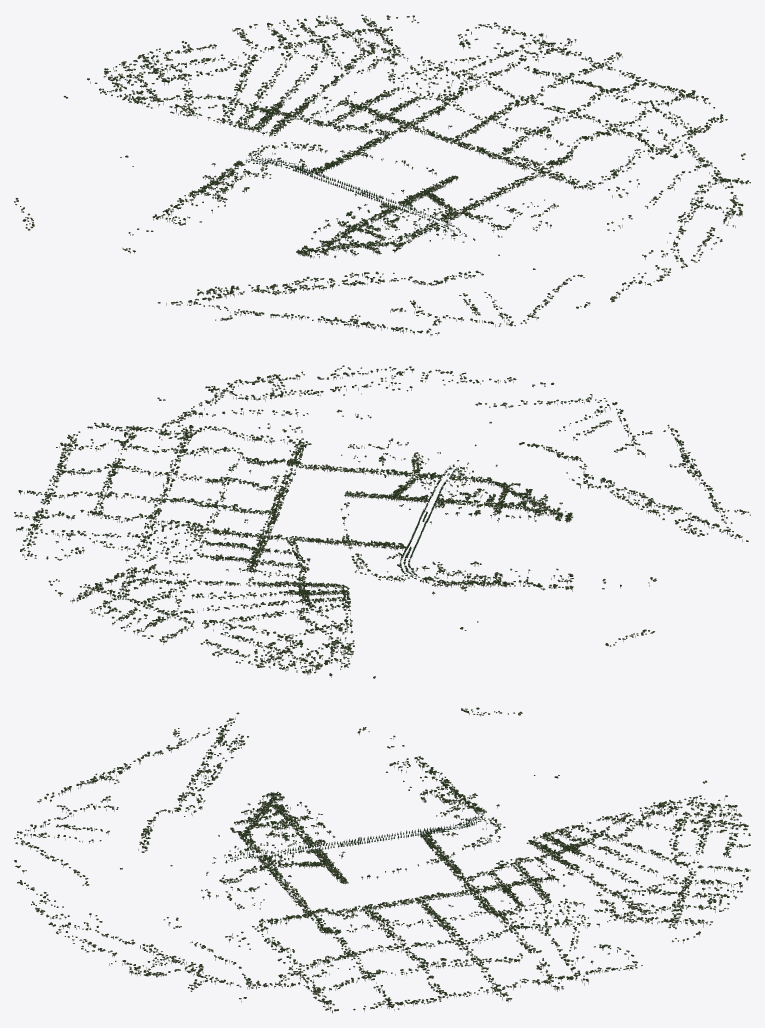
Rendered from marvel_backdrop_part2.glb.
3 renders of one model, top to bottom at view 1: azimuth 30°, elevation 25°; view 2: azimuth 150°, elevation 25°; view 3: azimuth 270°, elevation 25°, orthographic.
Parts seen in each view (by area): view 1: bg_trees_joined_s13, bg_trees_joined_s12, bg_trees_joined_s14, bg_trees_joined_s11, bg_trees_joined_s01, bg_trees_joined_s09, bg_trees_joined_s05, bg_trees_joined_s02, bg_trees_joined_s08, bg_trees_joined_s10, bg_trees_joined_s06, bg_trees_joined_s07 (+4 smaller); view 2: bg_trees_joined_s13, bg_trees_joined_s12, bg_trees_joined_s14, bg_trees_joined_s11, bg_trees_joined_s01, bg_trees_joined_s09, bg_trees_joined_s05, bg_trees_joined_s02, bg_trees_joined_s08, bg_trees_joined_s10, bg_trees_joined_s06, bg_trees_joined_s04 (+4 smaller); view 3: bg_trees_joined_s13, bg_trees_joined_s12, bg_trees_joined_s14, bg_trees_joined_s11, bg_trees_joined_s01, bg_trees_joined_s09, bg_trees_joined_s05, bg_trees_joined_s02, bg_trees_joined_s08, bg_trees_joined_s10, bg_trees_joined_s06, bg_trees_joined_s04 (+4 smaller).
Boxes of the visible parts, x1,y1,x2,y2 form: bg_trees_joined_s13: (208, 14, 471, 112); bg_trees_joined_s12: (429, 22, 695, 135); bg_trees_joined_s14: (63, 41, 293, 130); bg_trees_joined_s11: (532, 95, 750, 218); bg_trees_joined_s01: (337, 190, 464, 254); bg_trees_joined_s09: (295, 250, 548, 336); bg_trees_joined_s05: (295, 100, 419, 160); bg_trees_joined_s02: (401, 182, 544, 240); bg_trees_joined_s08: (122, 245, 334, 320); bg_trees_joined_s10: (497, 203, 735, 308); bg_trees_joined_s06: (246, 112, 353, 171); bg_trees_joined_s07: (208, 160, 347, 206); bg_trees_joined_s13: (46, 539, 296, 646); bg_trees_joined_s12: (14, 441, 232, 559); bg_trees_joined_s14: (210, 583, 375, 678); bg_trees_joined_s11: (67, 374, 311, 480); bg_trees_joined_s01: (402, 462, 546, 517); bg_trees_joined_s09: (519, 394, 705, 504); bg_trees_joined_s05: (219, 529, 353, 584); bg_trees_joined_s02: (341, 452, 459, 506); bg_trees_joined_s08: (549, 485, 750, 586); bg_trees_joined_s10: (290, 365, 554, 453); bg_trees_joined_s06: (296, 540, 420, 594); bg_trees_joined_s04: (210, 478, 348, 537); bg_trees_joined_s13: (514, 851, 750, 956); bg_trees_joined_s12: (382, 908, 642, 1010); bg_trees_joined_s14: (546, 780, 750, 856); bg_trees_joined_s11: (129, 915, 382, 1013); bg_trees_joined_s01: (213, 806, 353, 859); bg_trees_joined_s09: (14, 756, 253, 858); bg_trees_joined_s05: (417, 854, 555, 903); bg_trees_joined_s02: (212, 853, 343, 909); bg_trees_joined_s08: (142, 712, 369, 806); bg_trees_joined_s10: (14, 857, 244, 965); bg_trees_joined_s06: (423, 812, 555, 857); bg_trees_joined_s04: (382, 868, 495, 927).
Size of the model in its own units: 2965 by 98.7 by 2985.
1 material, 1 textured.
